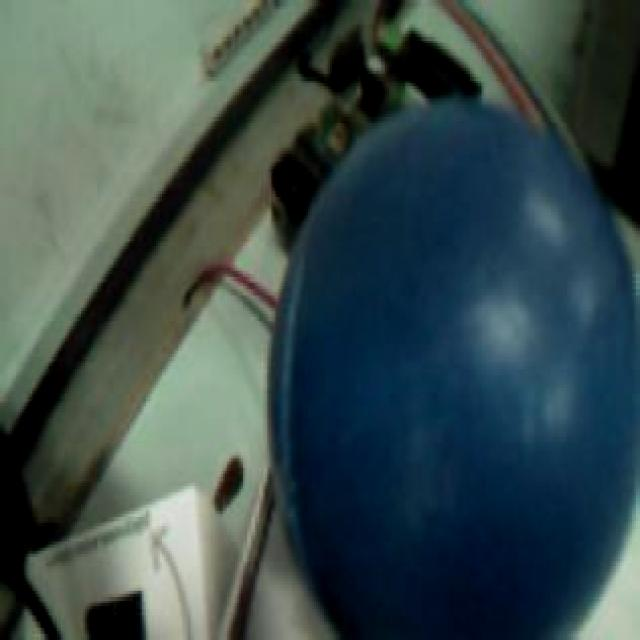BallPurple: (269, 96, 640, 640)
